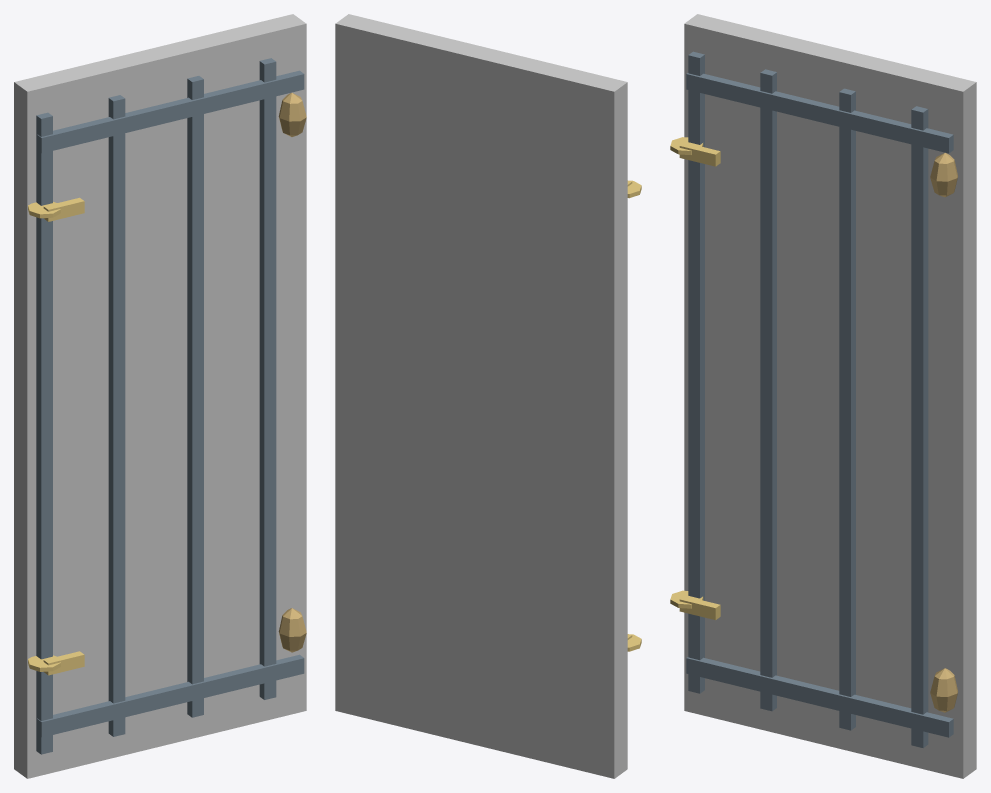
The model's file is contenedor_puerta_derecha.glb.
The picture shows the model from 3 angles, left to right: view 1: azimuth 30°, elevation 25°; view 2: azimuth 150°, elevation 25°; view 3: azimuth 330°, elevation 25°; orthographic projection.
Parts seen in each view (by area): view 1: contenedor_puerta_derecha; view 2: contenedor_puerta_derecha; view 3: contenedor_puerta_derecha.
Part boxes in pixels (box(x1,y1,x2,y2)): contenedor_puerta_derecha: box(14, 14, 306, 778); contenedor_puerta_derecha: box(335, 14, 641, 778); contenedor_puerta_derecha: box(670, 14, 976, 778).
Size of the model in its own units: 0.865 by 2 by 0.153.
